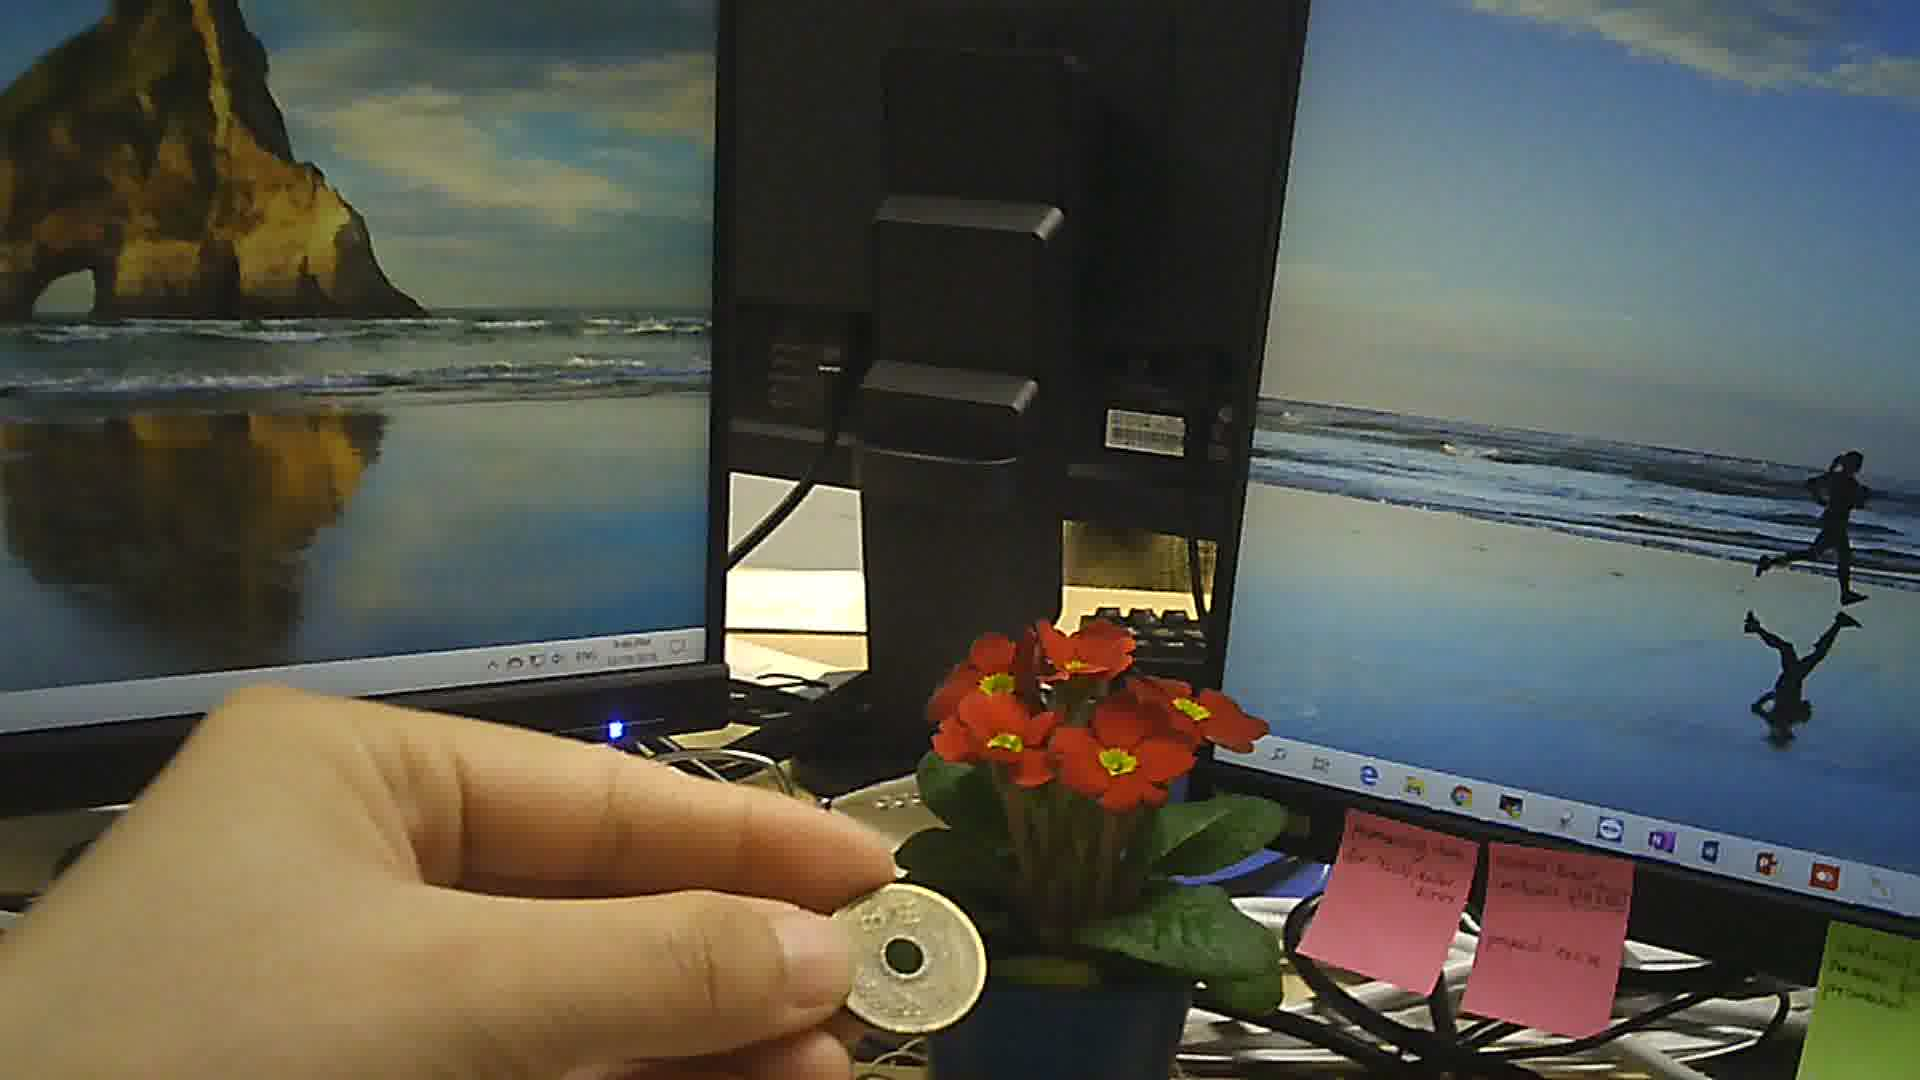5 Yen: (815, 862, 994, 1040)
